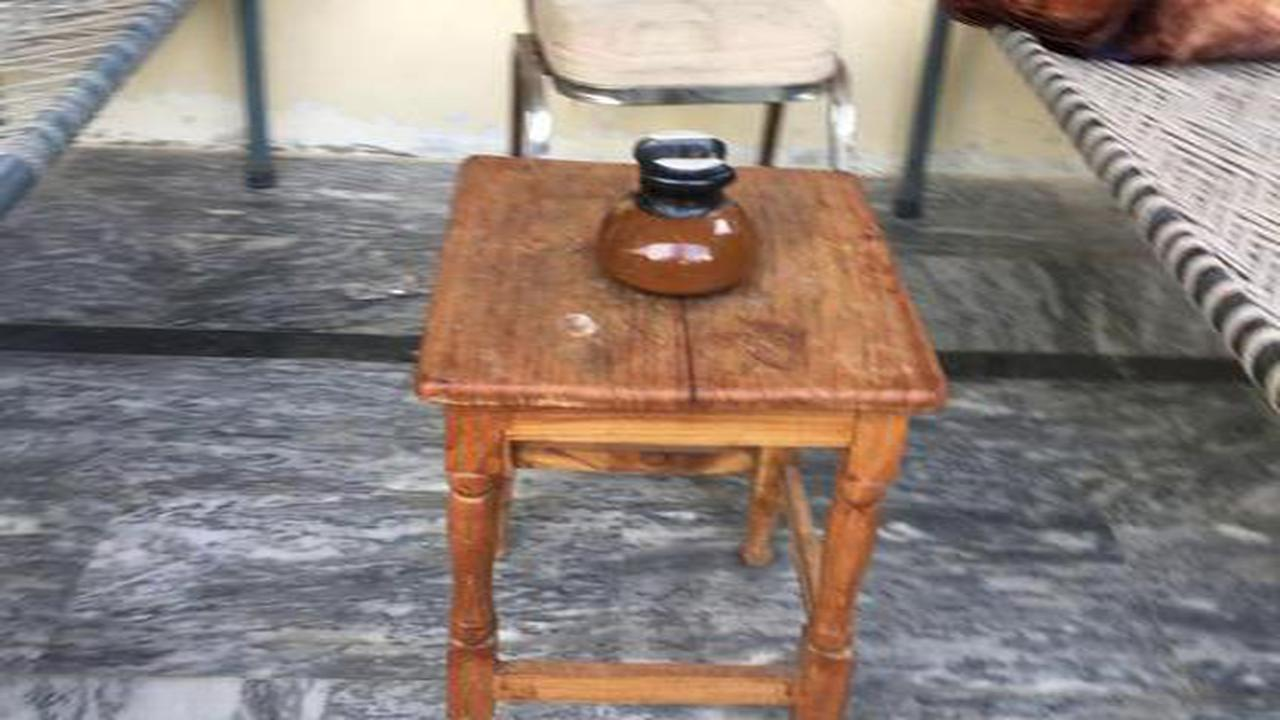insulator_pin: (576, 119, 776, 307)
